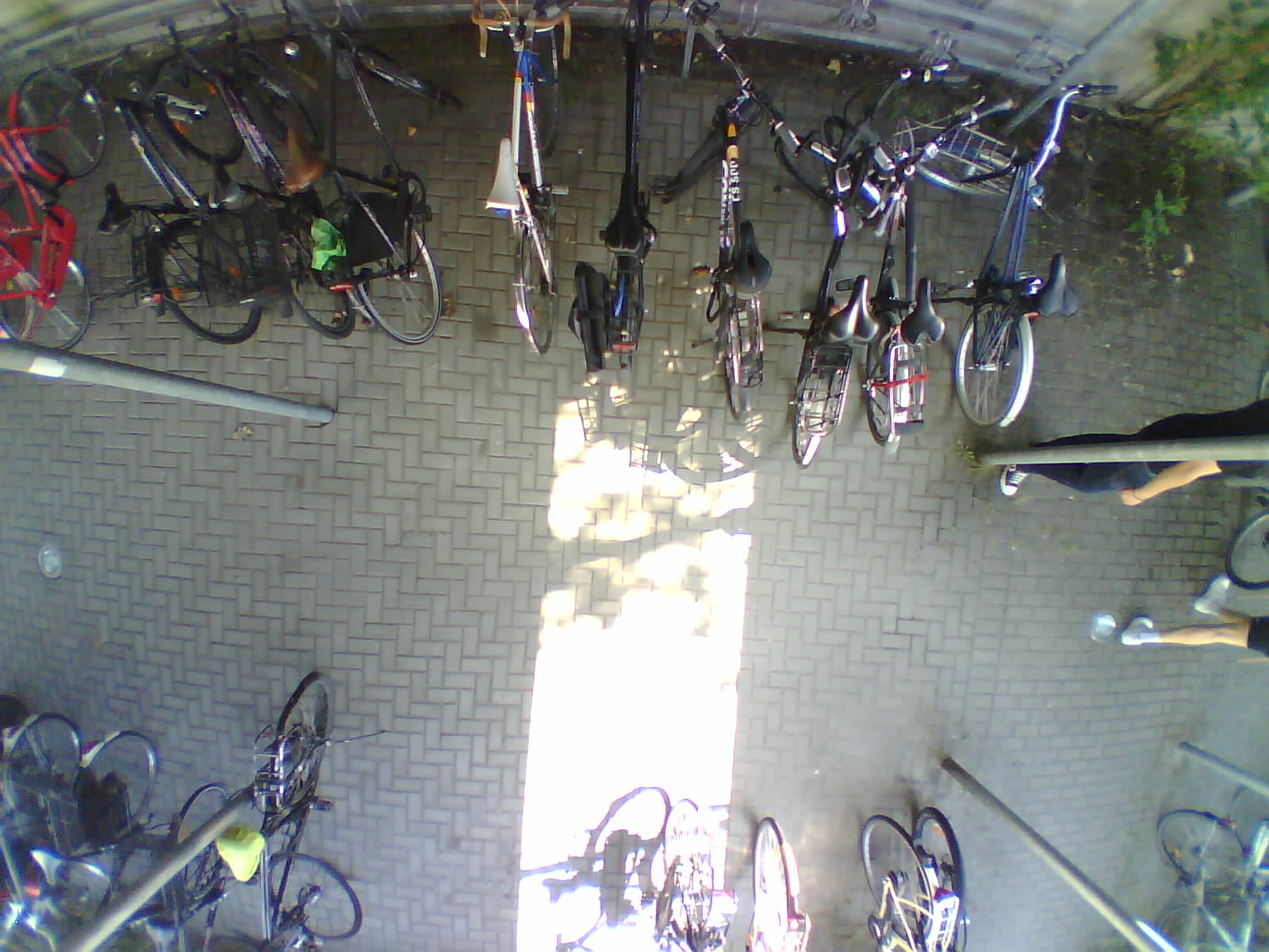bicylce: (287, 15, 442, 339), (94, 41, 251, 326), (197, 28, 345, 326), (958, 88, 1074, 437), (467, 13, 574, 352), (686, 34, 776, 418), (778, 96, 868, 470), (577, 28, 667, 395), (244, 665, 356, 952), (862, 99, 950, 442), (0, 64, 84, 360), (71, 729, 161, 952)
saddle: (598, 172, 656, 255), (716, 225, 778, 298), (1035, 249, 1089, 322), (279, 118, 326, 193), (478, 135, 521, 214), (830, 274, 879, 343), (900, 277, 947, 347), (17, 843, 77, 894), (212, 832, 268, 883), (92, 175, 137, 233), (203, 154, 240, 203)
